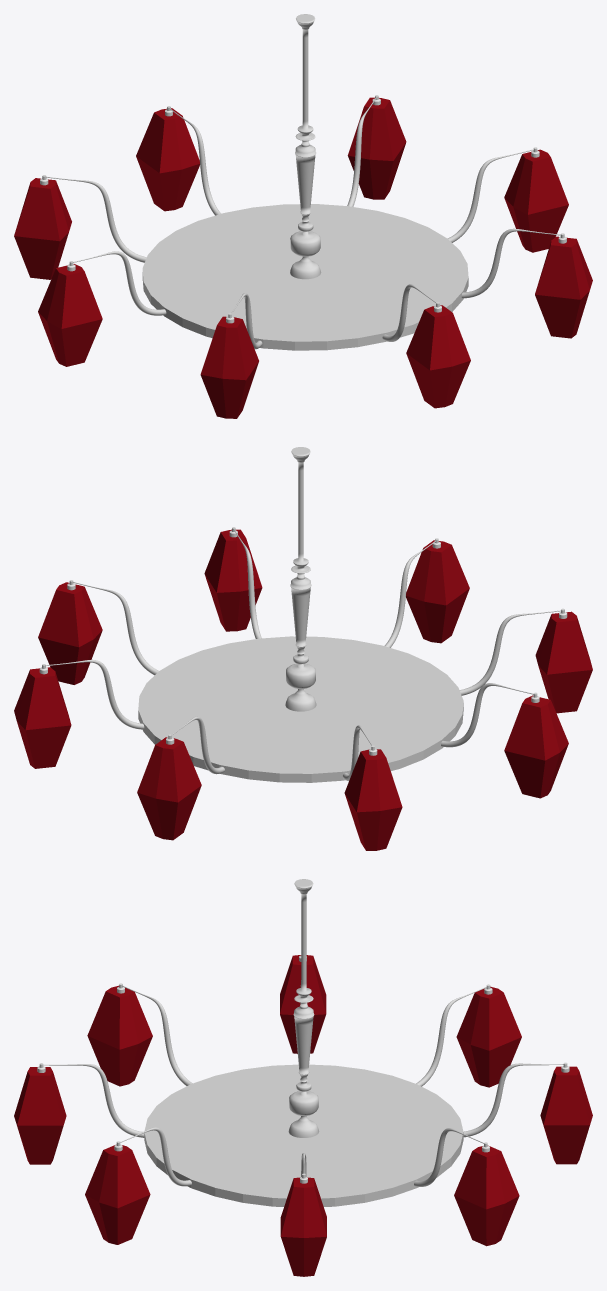
The model's file is SM_Chandelier.fbx.
The picture shows the model from 3 angles, top to bottom: view 1: azimuth 30°, elevation 25°; view 2: azimuth 150°, elevation 25°; view 3: azimuth 270°, elevation 25°; orthographic projection. The views are drawn at different scales.
Visible parts, largest first — view 1: Cylinder, NurbsPath.004, NurbsPath, NurbsPath.005, NurbsPath.001, NurbsPath.002, NurbsPath.006; view 2: Cylinder, NurbsPath.007, NurbsPath, NurbsPath.006, NurbsPath.001, NurbsPath.003, NurbsPath.005; view 3: Cylinder, NurbsPath.003, NurbsPath.002, NurbsPath.007, NurbsPath.004, NurbsPath.005, NurbsPath.006.
Part boxes in pixels (left/top/right/bottom): Cylinder: left=14, top=14, right=592, bottom=418; NurbsPath.004: left=46, top=176, right=146, bottom=262; NurbsPath: left=447, top=149, right=533, bottom=242; NurbsPath.005: left=461, top=228, right=560, bottom=298; NurbsPath.001: left=73, top=251, right=166, bottom=315; NurbsPath.002: left=169, top=108, right=221, bottom=215; NurbsPath.006: left=347, top=97, right=376, bottom=206; Cylinder: left=14, top=447, right=592, bottom=850; NurbsPath.007: left=459, top=610, right=561, bottom=695; NurbsPath: left=73, top=582, right=158, bottom=675; NurbsPath.006: left=46, top=659, right=144, bottom=729; NurbsPath.001: left=441, top=683, right=533, bottom=747; NurbsPath.003: left=384, top=540, right=435, bottom=647; NurbsPath.005: left=234, top=529, right=261, bottom=638; Cylinder: left=14, top=879, right=592, bottom=1276; NurbsPath.003: left=43, top=1064, right=144, bottom=1137; NurbsPath.002: left=463, top=1063, right=563, bottom=1137; NurbsPath.007: left=122, top=985, right=192, bottom=1085; NurbsPath.004: left=416, top=986, right=486, bottom=1086; NurbsPath.005: left=120, top=1127, right=191, bottom=1186; NurbsPath.006: left=414, top=1128, right=483, bottom=1186.
Size of the model in its own units: 495 by 263 by 495.
